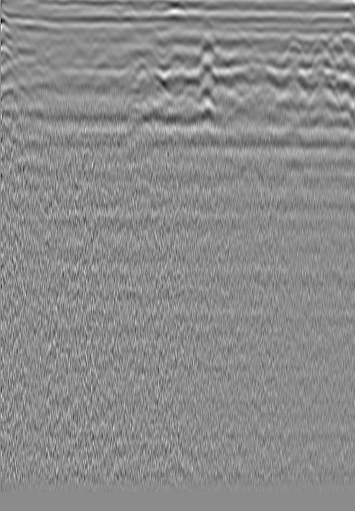가스: (119, 92, 152, 132)
상수: (286, 28, 306, 48)
오수: (20, 38, 40, 58)
우수: (163, 6, 183, 26)
